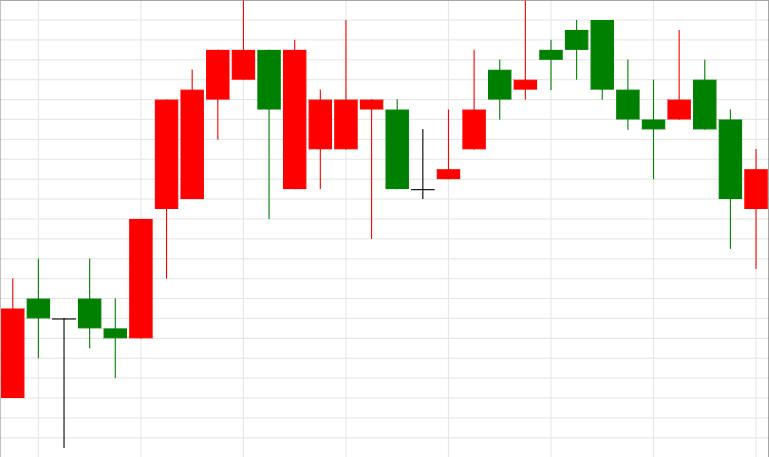shooting_star_fall: (129, 1, 255, 339)
